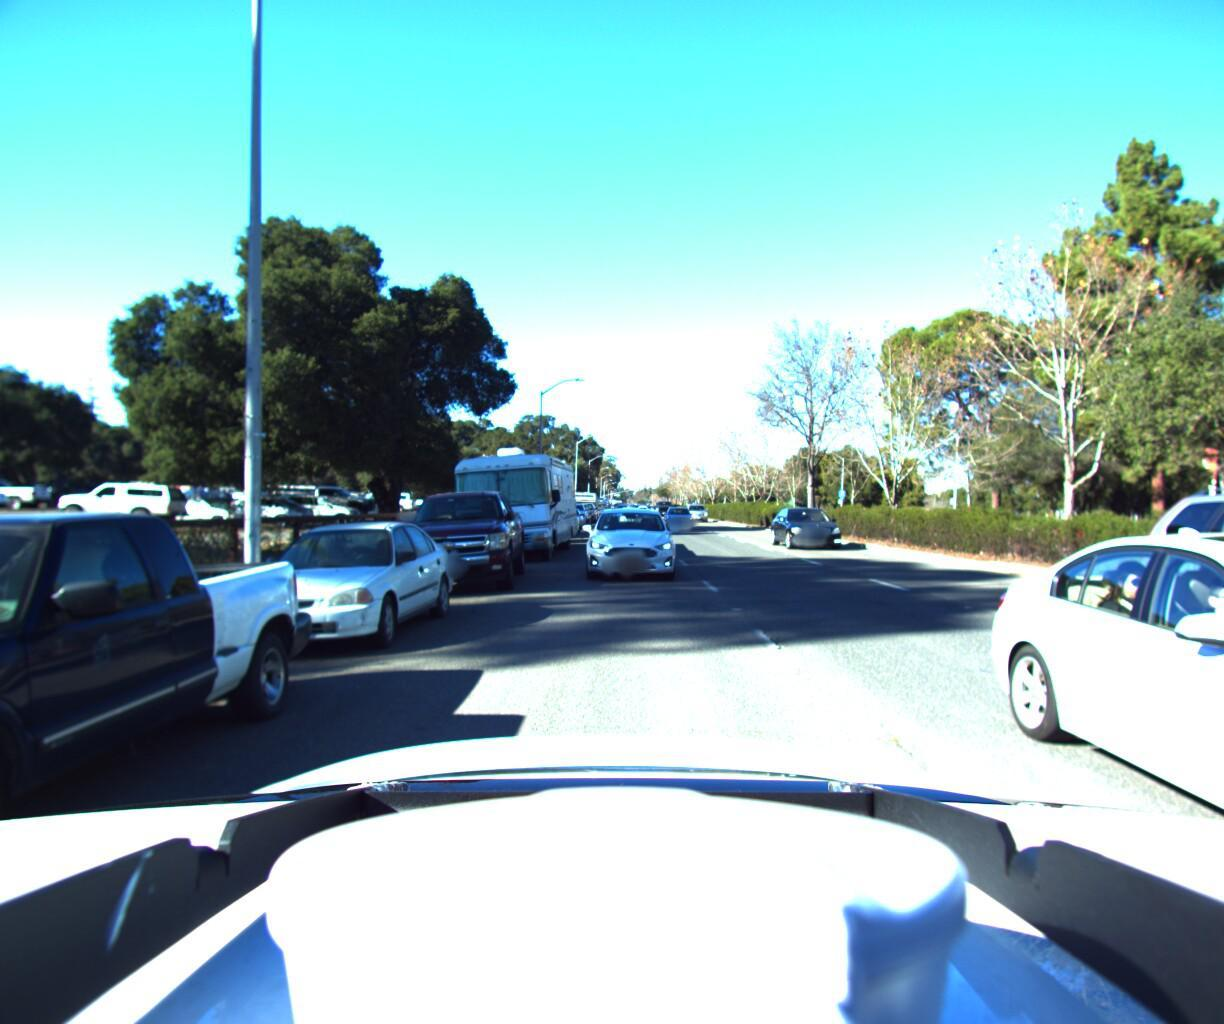car: (0, 497, 331, 1024), (1065, 505, 1224, 1024), (190, 519, 457, 670), (382, 482, 523, 600), (583, 505, 675, 587), (773, 503, 858, 554), (264, 492, 366, 528), (1215, 439, 1224, 825), (665, 502, 697, 531), (555, 502, 586, 529), (688, 504, 714, 523)
other_vehicle: (436, 439, 582, 564), (568, 491, 596, 521)
